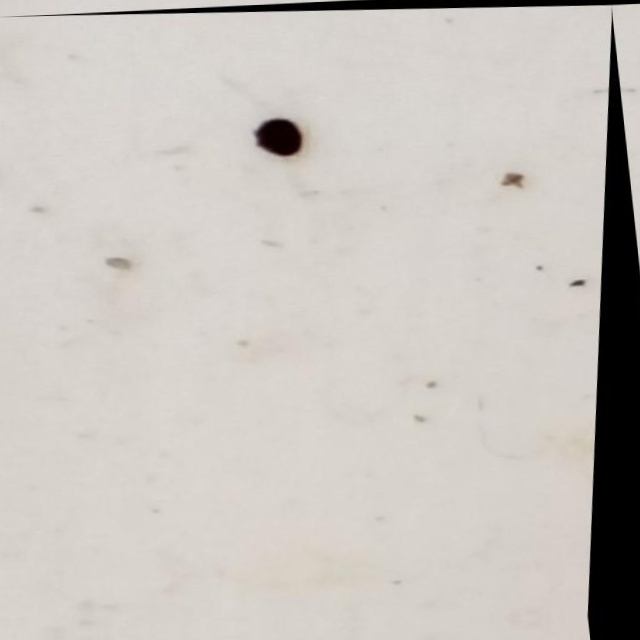varroa: (253, 114, 311, 158)
